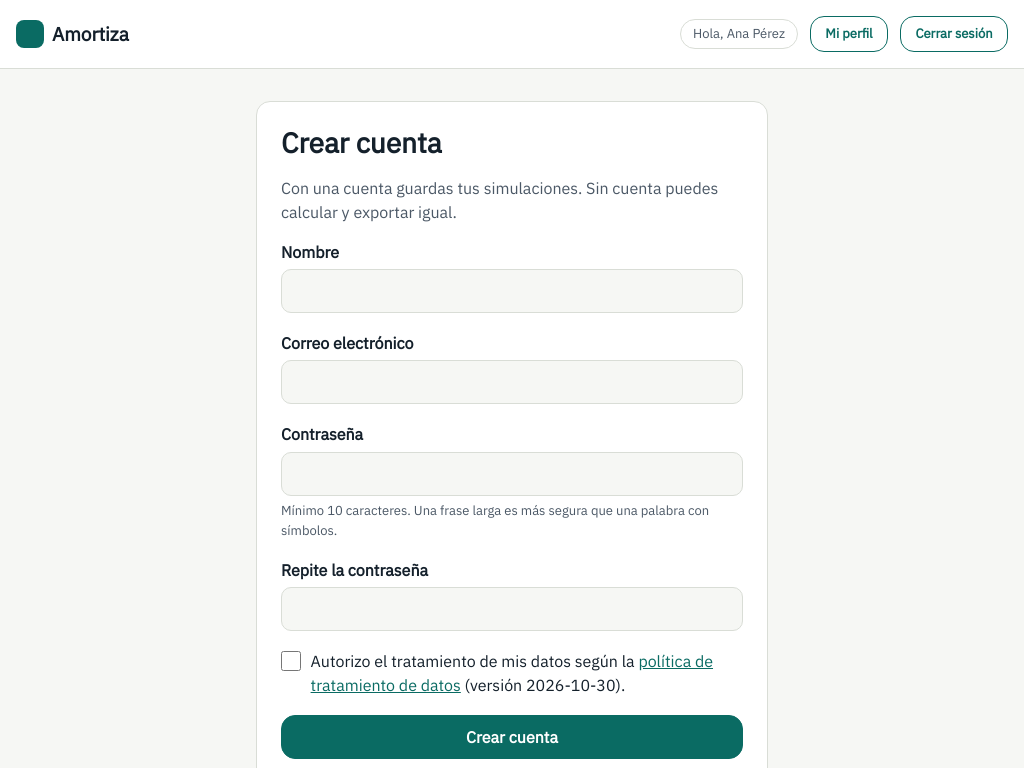
Test: HU-02: iniciar y cerrar sesión › criterio HU-02: al cerrar sesión vuelve a entrar como invitado
This screenshot has width=1024, height=768.
What coordinates should you click on to do the following:
click the button "Cerrar sesión"
I would click on:
 (954, 34)
Its box is [900,16,1008,52].
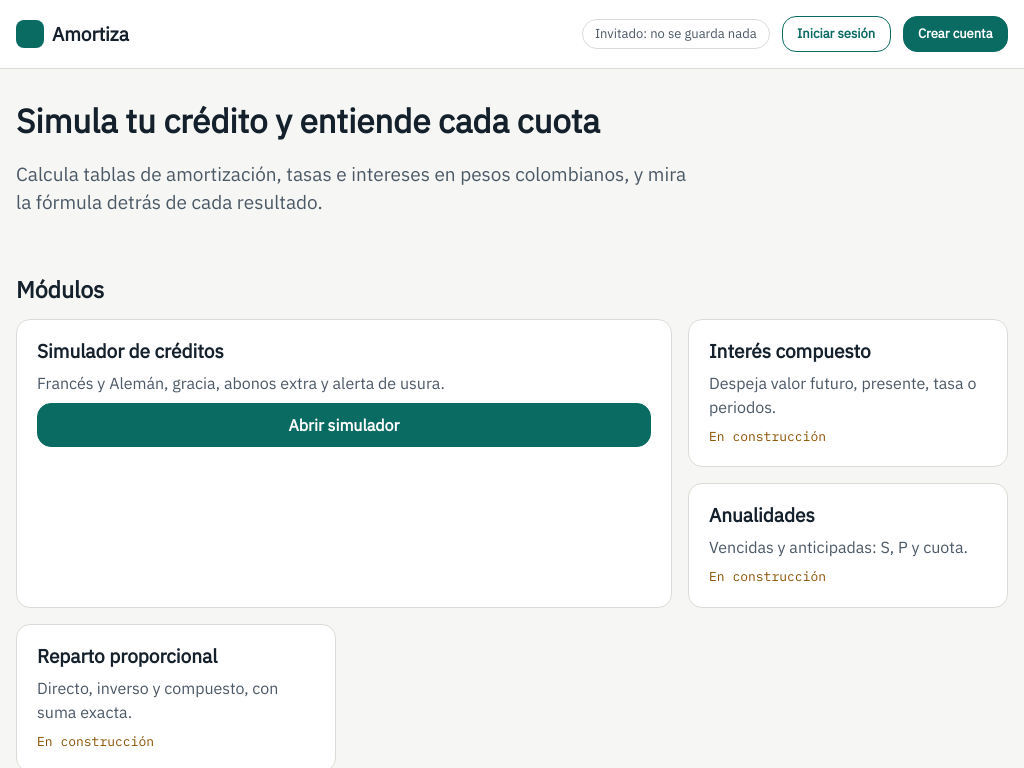
Expected: the text "Invitado: no se guarda nada" is shown, [582,19,770,49]
Expected: the text "Hola, Ana Pérez" is gone
